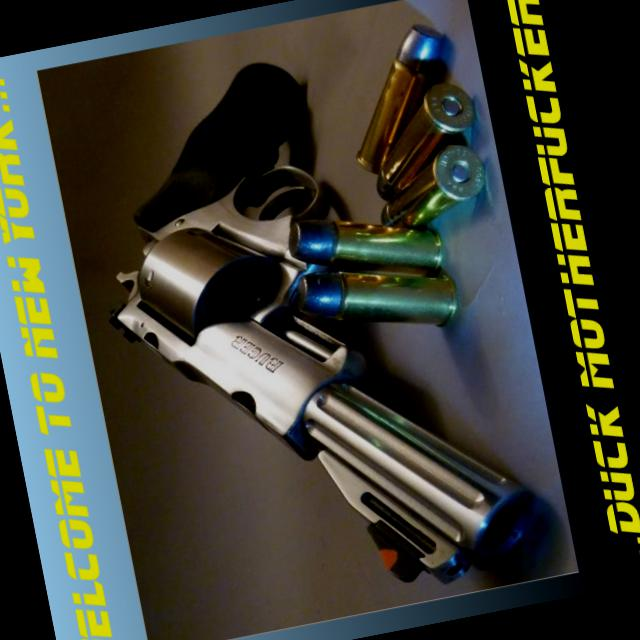handgun: (86, 28, 551, 640)
